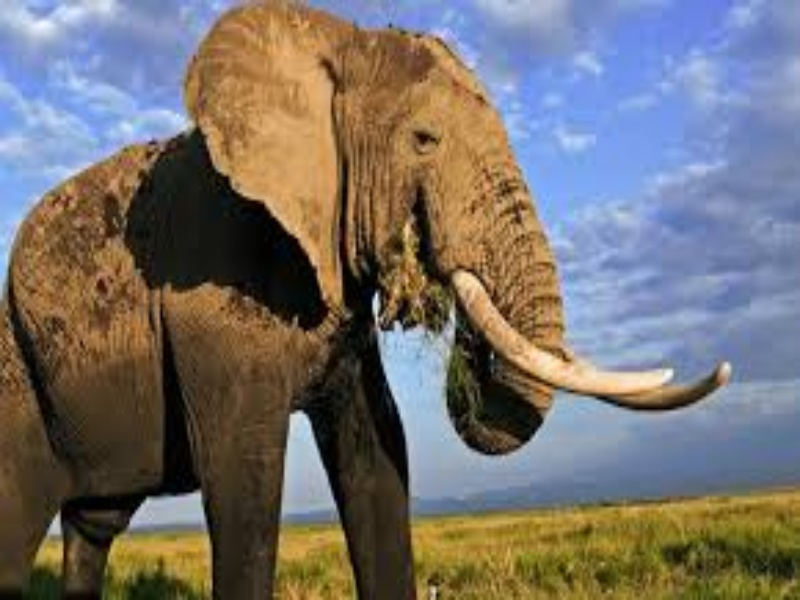elephant: (19, 9, 739, 587)
